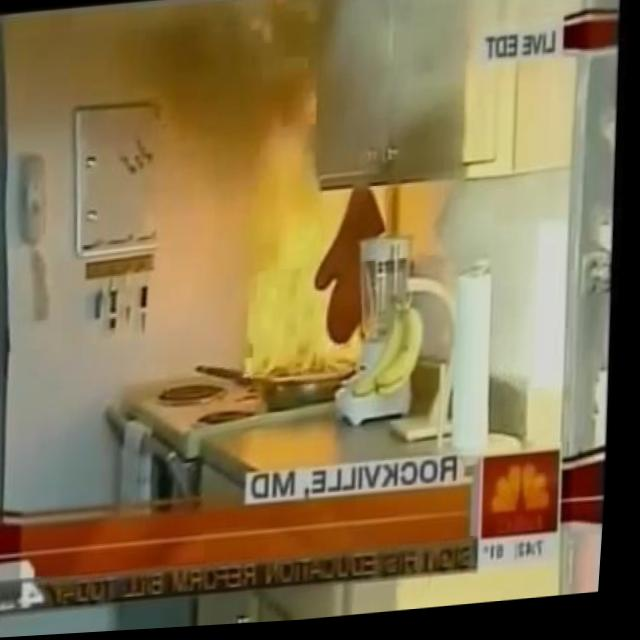fire: (235, 101, 396, 392)
